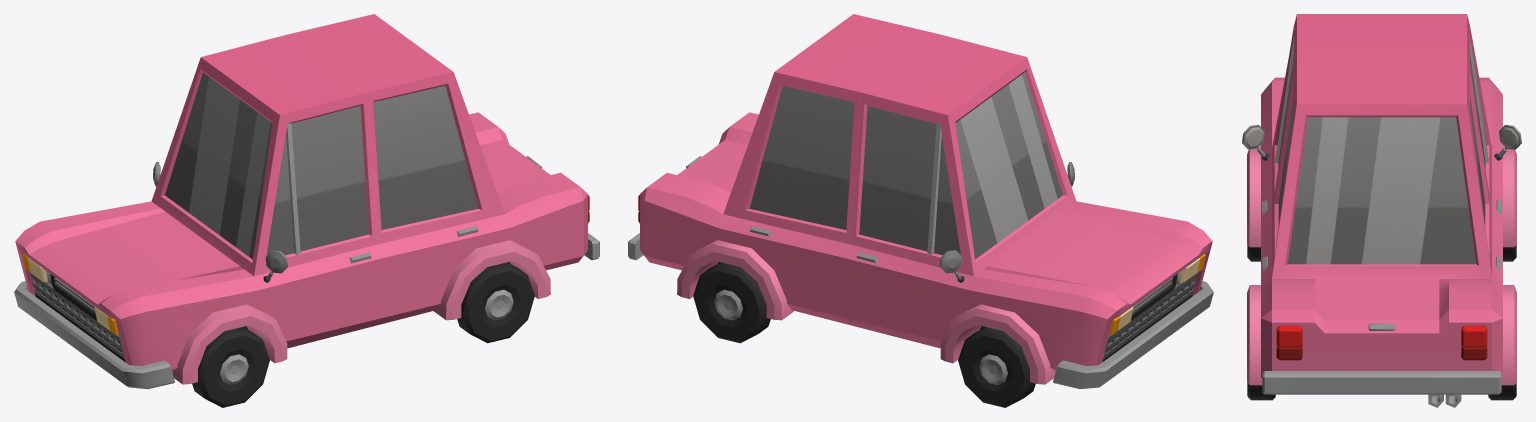
Rendered from Car_4_1_C.gltf.
3 renders of one model, left to right at view 1: azimuth 30°, elevation 25°; view 2: azimuth 150°, elevation 25°; view 3: azimuth 270°, elevation 25°, orthographic. The views are drawn at different scales.
Visible parts, largest first — view 1: Car_4_1_C, RL, FL; view 2: Car_4_1_C, RR, FR; view 3: Car_4_1_C, RL, RR.
Part boxes in pixels (x1,y1,x2,y2): Car_4_1_C: (14, 14, 599, 389); RL: (457, 262, 534, 343); FL: (192, 327, 269, 407); Car_4_1_C: (628, 14, 1213, 389); RR: (693, 262, 770, 343); FR: (958, 327, 1035, 407); Car_4_1_C: (1242, 14, 1521, 407); RL: (1247, 383, 1275, 400); RR: (1488, 383, 1516, 400).
Size of the model in its own units: 3.53 by 1.81 by 1.65.
Materials: 4 (4 with a texture image).
